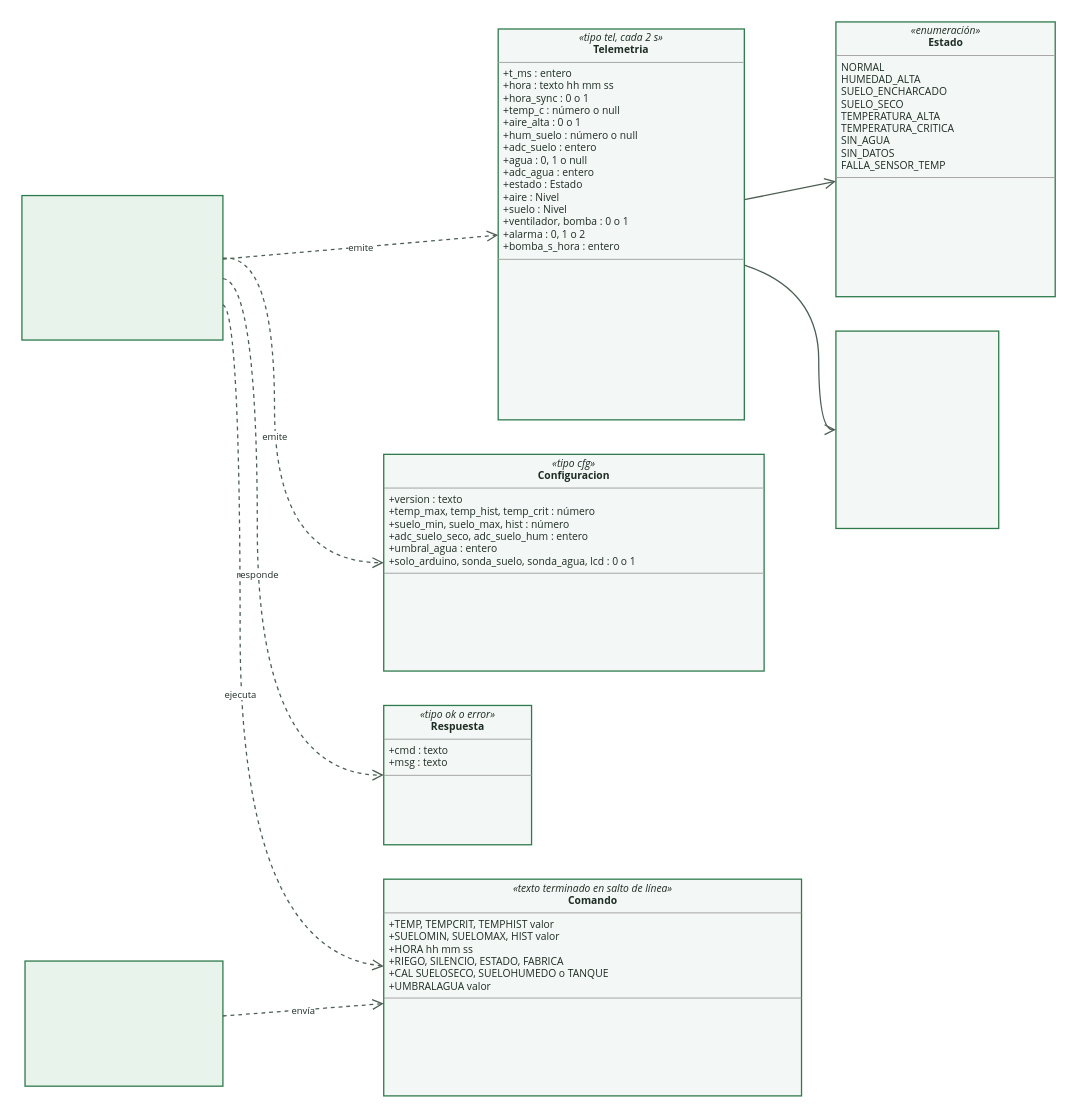
Some shapes in this 1077 by 1117 pixel diagram are drawn without their labels. Here are the shapes that lost their labels. From the top down, the centre of each, then its label:
the point at 122,267: Arduino +enviarTelemetria() +enviarAjustes() +ejecutarComando(linea)
the point at 917,429: «enumeración» Nivel BAJA NORMAL ALTA DESCONOCIDA NO_USADO
the point at 123,1023: Aplicacion +interpretarLinea(linea) +enviar(comando)
